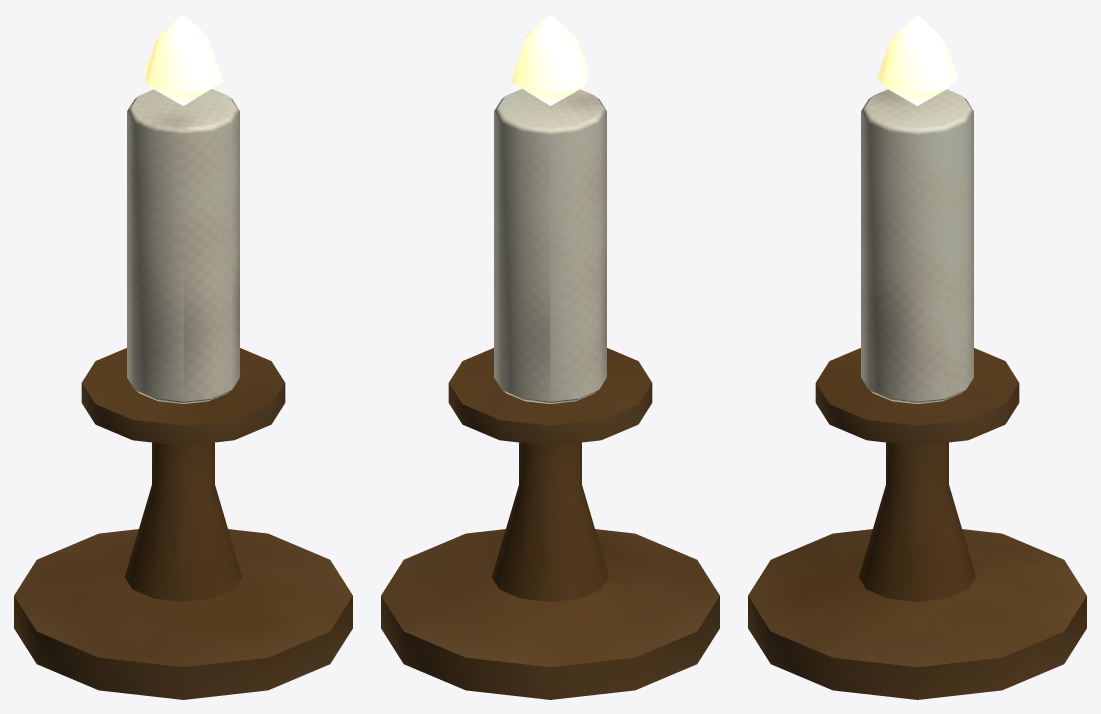
Rendered from Furn_Desk_Candlestick.fbx.
3 views of the same model, side by side, from view 1: azimuth 30°, elevation 25°; view 2: azimuth 150°, elevation 25°; view 3: azimuth 270°, elevation 25° (orthographic).
Parts seen in each view (by area): view 1: Furn_Desk_Candlestick; view 2: Furn_Desk_Candlestick; view 3: Furn_Desk_Candlestick.
Boxes of the visible parts, x1,y1,x2,y2 form: Furn_Desk_Candlestick: (14,14,352,699); Furn_Desk_Candlestick: (381,14,719,699); Furn_Desk_Candlestick: (748,14,1086,699).
Size of the model in its own units: 0.15 by 0.3 by 0.15.
3 materials, 2 textured.
